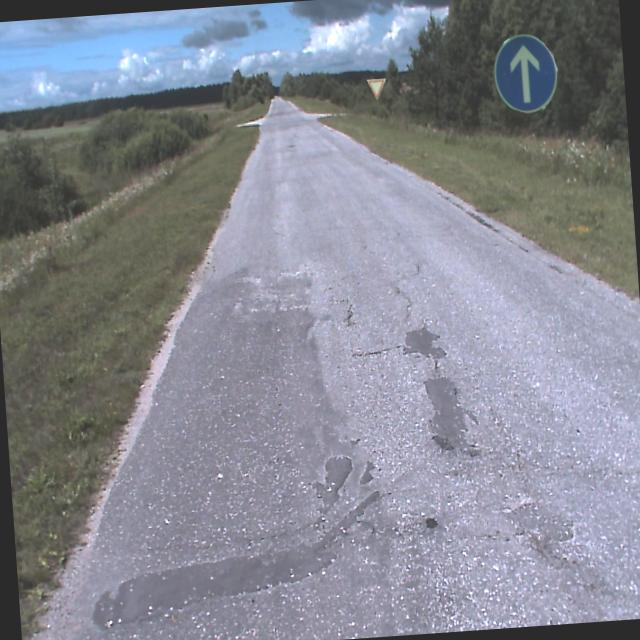road: (58, 95, 640, 640)
